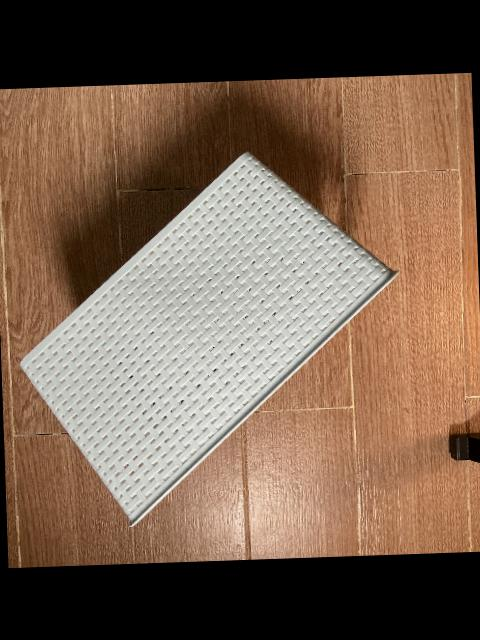cart: (21, 152, 399, 528)
